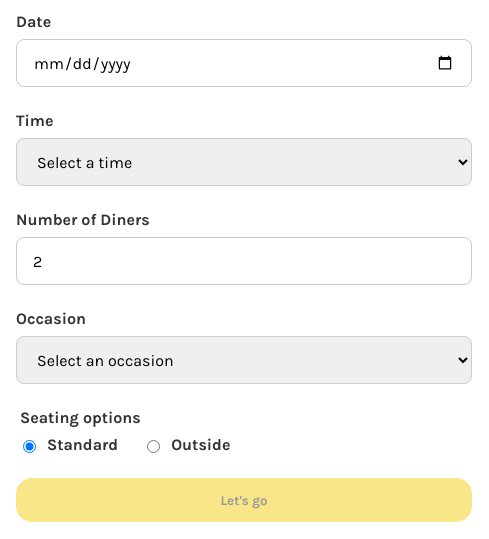
Test case: BookingForm › submit button becomes enabled when required fields are valid
The image size is (489, 539).
Type "2026-09-10" into the date field labelled "Date" at (244, 63), box [16,39,472,87]
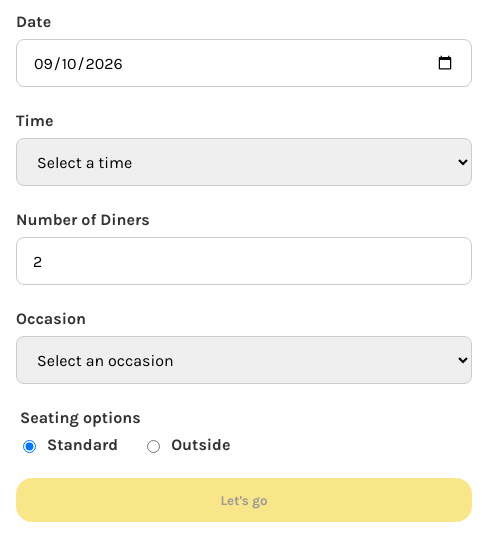
Select "18:00" in the dropdown labelled "Time" at (244, 162), box [16,138,472,186]
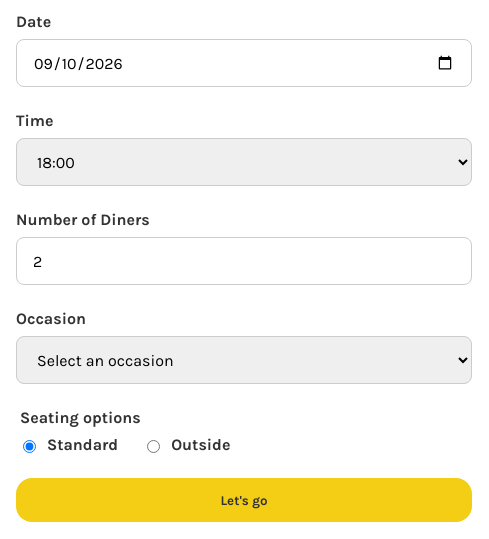
Now the button "Let's go" is enabled, box [16,478,472,522]
